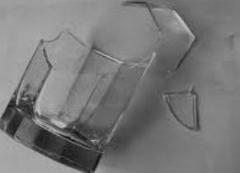glass: (0, 29, 158, 173)
